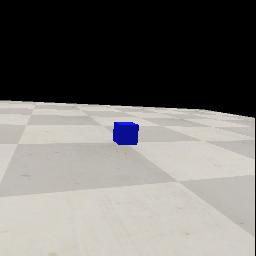box: (113, 122, 139, 145)
